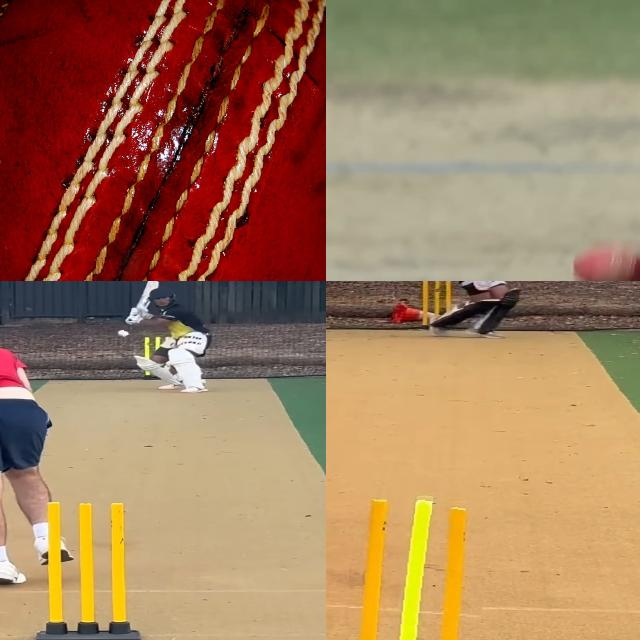Cricket ball: (0, 0, 326, 281), (569, 241, 640, 281), (115, 328, 132, 338)
Stumps: (348, 491, 491, 640), (34, 499, 141, 640), (418, 281, 454, 326)
